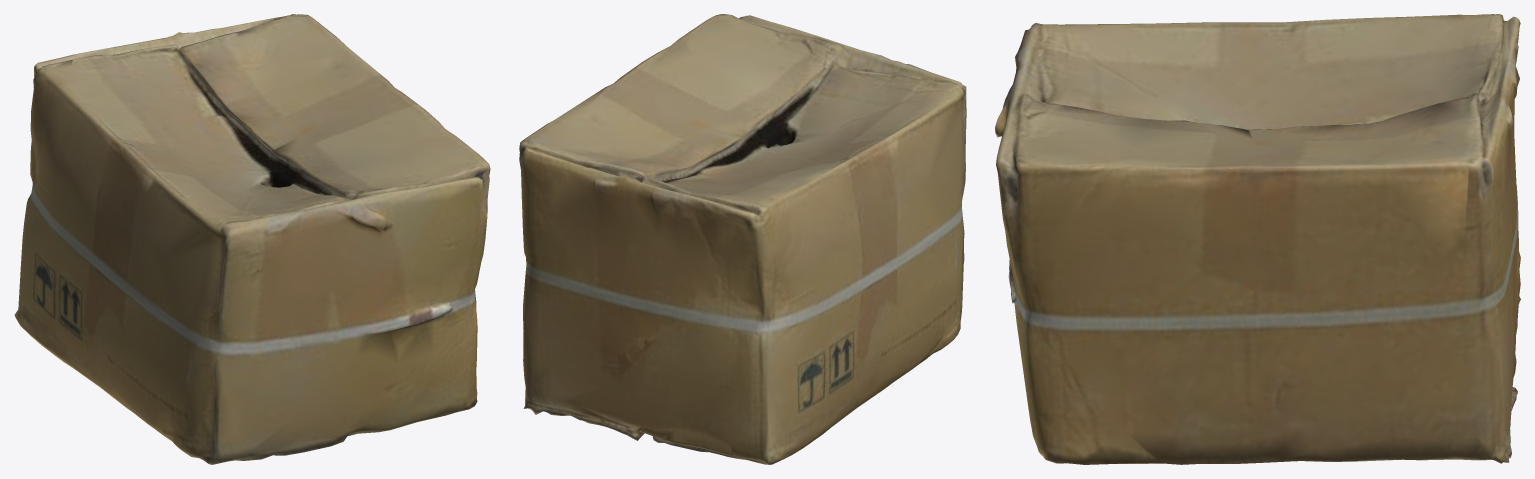
The model's file is cardboard_box_01.glb.
3 renders of one model, left to right at view 1: azimuth 30°, elevation 25°; view 2: azimuth 150°, elevation 25°; view 3: azimuth 270°, elevation 25°, orthographic. The views are drawn at different scales.
Visible parts, largest first — view 1: cardboard_box_01; view 2: cardboard_box_01; view 3: cardboard_box_01.
Boxes of the visible parts, box(x1,y1,x2,y2) form: cardboard_box_01: box(14, 14, 490, 464); cardboard_box_01: box(519, 14, 966, 464); cardboard_box_01: box(995, 14, 1520, 464).
Bounding box in the file's own units: 0.3868 × 0.3418 × 0.5159.
1 material, 1 textured.
